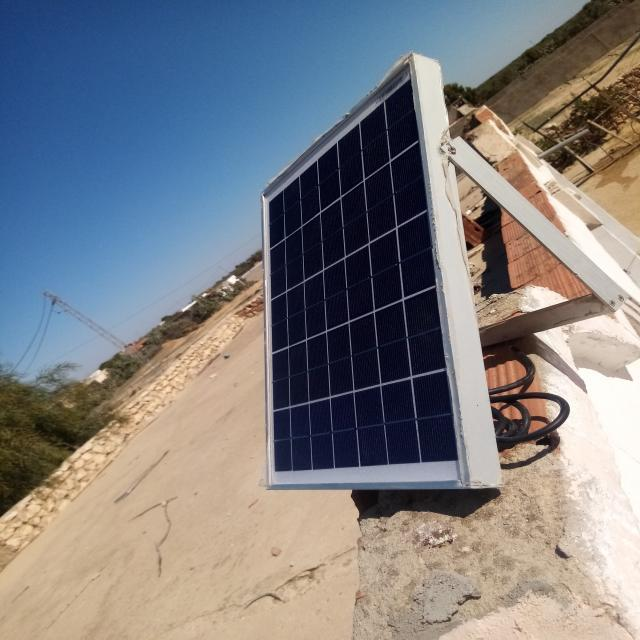no faulty: (263, 58, 472, 489)
